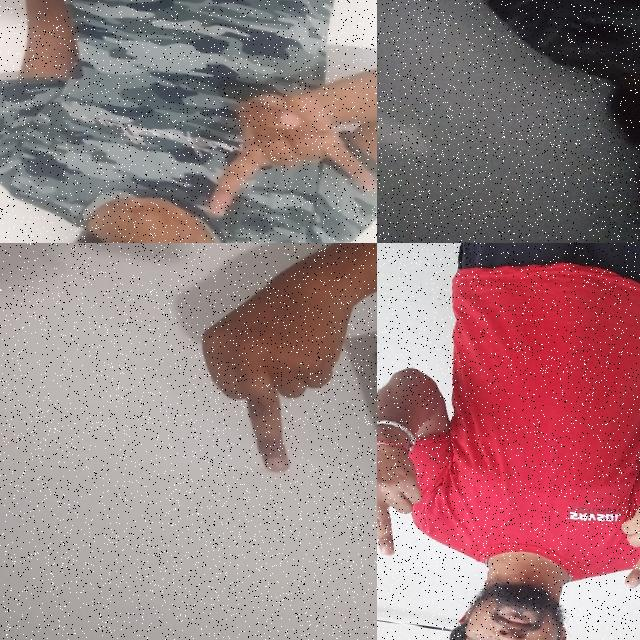Corna: (197, 41, 377, 243)
Middle Finger: (177, 246, 377, 500)
Reversed Victory: (377, 418, 436, 572), (607, 455, 640, 604)
